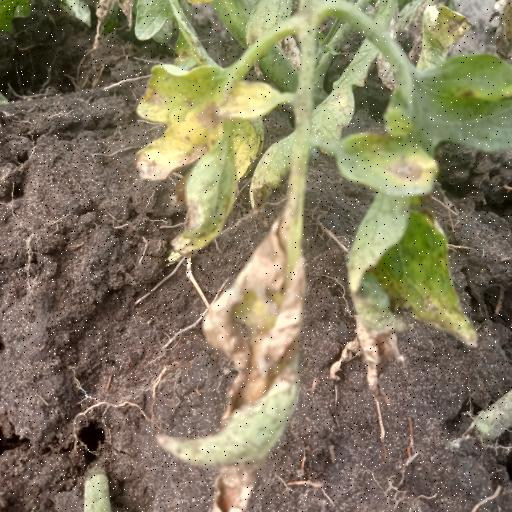Tomato_Brown_Spots: (345, 60, 512, 377), (172, 186, 317, 512), (135, 53, 279, 261)
